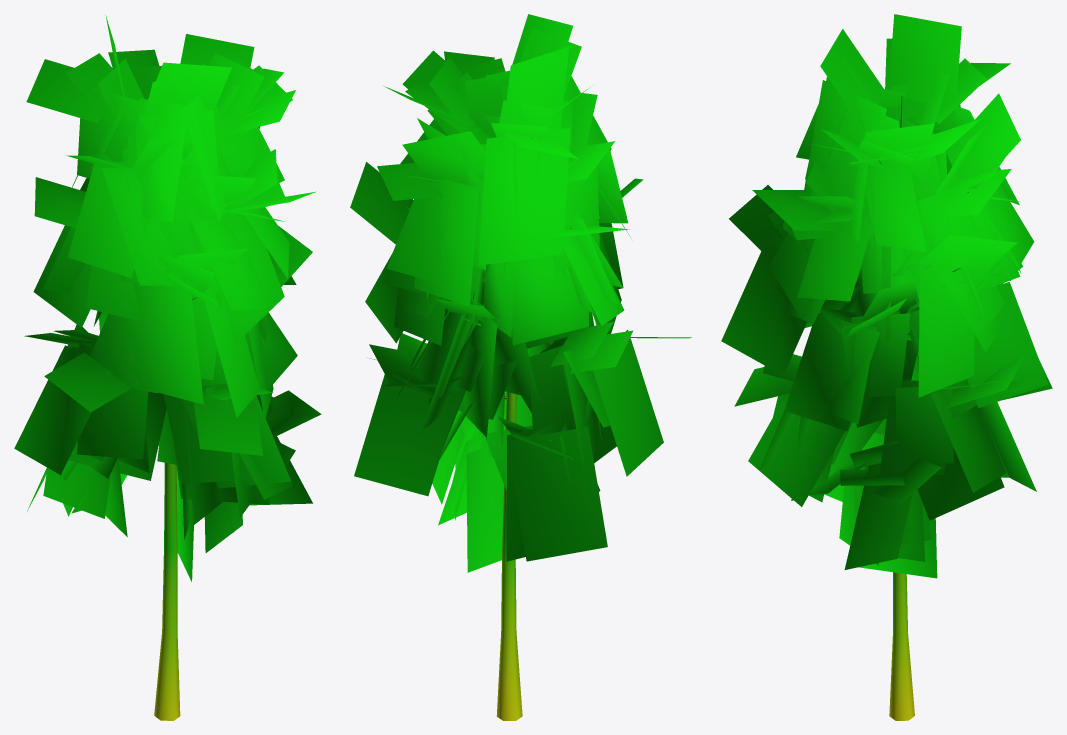
File: tree_birch_b_lod1.glb
3 renders of one model, left to right at view 1: azimuth 30°, elevation 25°; view 2: azimuth 150°, elevation 25°; view 3: azimuth 270°, elevation 25°, orthographic.
Parts seen in each view (by area): view 1: tree_birch_b_lod1.1, tree_birch_b_lod1.0; view 2: tree_birch_b_lod1.1, tree_birch_b_lod1.0; view 3: tree_birch_b_lod1.1, tree_birch_b_lod1.0.
Part boxes in pixels (left/top/right/bottom): tree_birch_b_lod1.1: left=14, top=15, right=321, bottom=581; tree_birch_b_lod1.0: left=154, top=297, right=197, bottom=720; tree_birch_b_lod1.1: left=350, top=14, right=691, bottom=572; tree_birch_b_lod1.0: left=463, top=138, right=623, bottom=720; tree_birch_b_lod1.1: left=721, top=14, right=1052, bottom=578; tree_birch_b_lod1.0: left=843, top=95, right=968, bottom=720.
Bounding box in the file's own units: 6.74 × 15.3 × 6.81.
